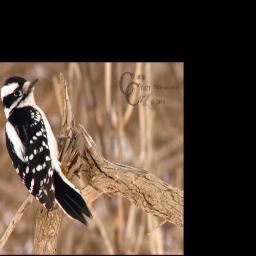Woodpecker: (0, 75, 94, 231)
